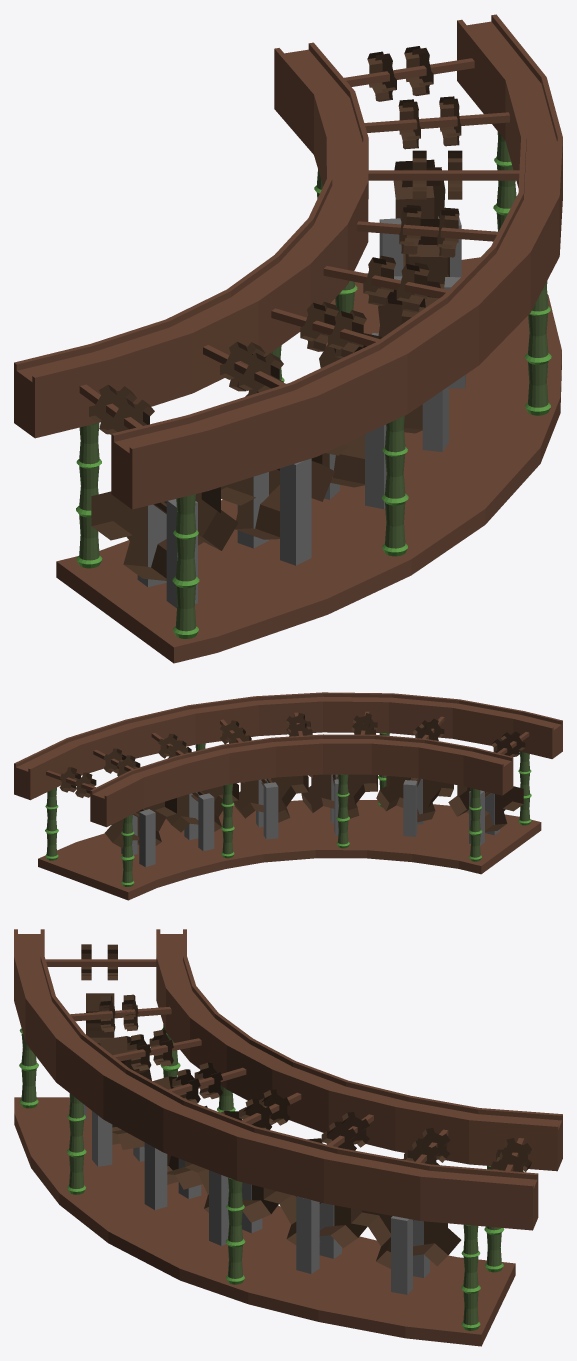
The model's file is rail avec Bambou gauche 1 num 2.fbx.
The picture shows the model from 3 angles, top to bottom: view 1: azimuth 30°, elevation 25°; view 2: azimuth 150°, elevation 25°; view 3: azimuth 270°, elevation 25°; orthographic projection. The views are drawn at different scales.
Visible parts, largest first — view 1: rail droite 1; view 2: rail droite 1; view 3: rail droite 1.
Boxes of the visible parts, left/top/right/bottom form: rail droite 1: left=14, top=14, right=562, bottom=663; rail droite 1: left=14, top=692, right=562, bottom=900; rail droite 1: left=14, top=929, right=562, bottom=1346.
Size of the model in its own units: 1543 by 464 by 1394.
